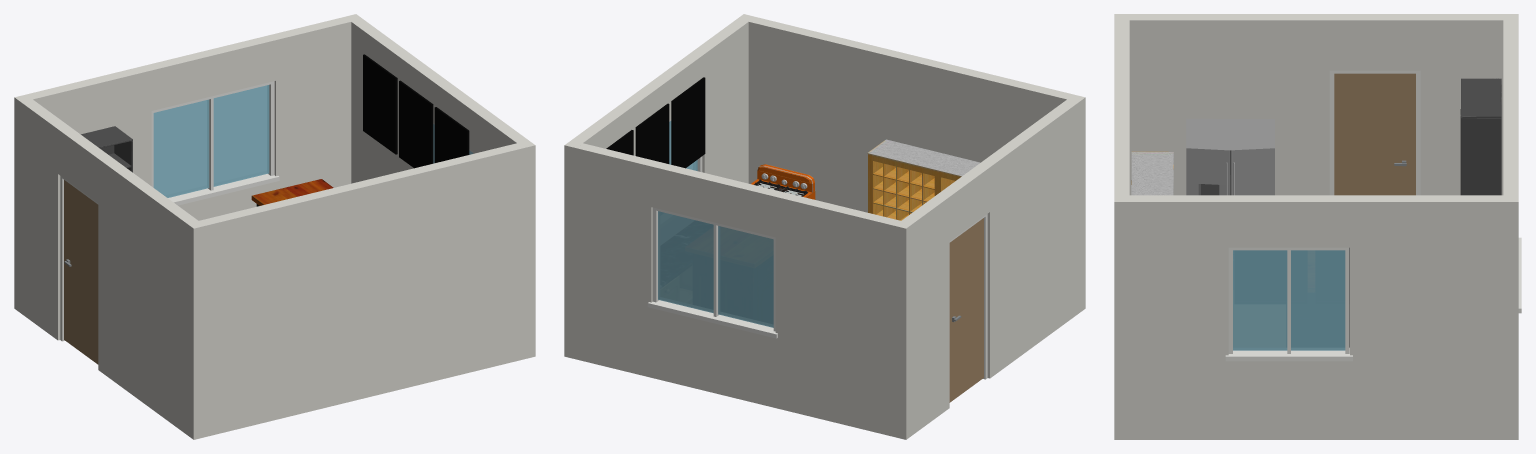
The model's file is holodeck.glb.
3 renders of one model, left to right at view 1: azimuth 30°, elevation 25°; view 2: azimuth 150°, elevation 25°; view 3: azimuth 270°, elevation 25°, orthographic. The views are drawn at different scales.
Visible parts, largest first — view 1: wall|scenesmith_091__R00|0, wall|scenesmith_091__R00|2, wall|scenesmith_091__R00|1, wall|scenesmith_091__R00|1 Window 0 | glazing, wall|scenesmith_091__R00|3, scenesmith_091__R00_10, wall|scenesmith_091__R00|2 Door 0 | wood leaf, wall|scenesmith_091__R00|1 Window 0 | jamb, scenesmith_091__R00_3, scenesmith_091__R00_7, wall|scenesmith_091__R00|2 Door 0 | jamb; view 2: wall|scenesmith_091__R00|1, wall|scenesmith_091__R00|2, wall|scenesmith_091__R00|0, wall|scenesmith_091__R00|3, wall|scenesmith_091__R00|1 Window 0 | glazing, scenesmith_091__R00_8, wall|scenesmith_091__R00|2 Door 0 | wood leaf, scenesmith_091__R00_10, wall|scenesmith_091__R00|1 Window 0 | jamb, scenesmith_091__R00_2, wall|scenesmith_091__R00|2 Door 0 | jamb; view 3: wall|scenesmith_091__R00|3, wall|scenesmith_091__R00|2, wall|scenesmith_091__R00|3 Window 0 | glazing, wall|scenesmith_091__R00|2 Door 0 | wood leaf, scenesmith_091__R00_1, wall|scenesmith_091__R00|1, scenesmith_091__R00_3, wall|scenesmith_091__R00|3 Window 0 | jamb, wall|scenesmith_091__R00|0, scenesmith_091__R00_8, wall|scenesmith_091__R00|2 Door 0 | jamb.
Part boxes in pixels (left/top/right/bottom): wall|scenesmith_091__R00|0: left=193, top=143, right=535, bottom=439; wall|scenesmith_091__R00|2: left=15, top=94, right=205, bottom=439; wall|scenesmith_091__R00|1: left=14, top=17, right=351, bottom=313; wall|scenesmith_091__R00|1 Window 0 | glazing: left=153, top=85, right=269, bottom=197; wall|scenesmith_091__R00|3: left=345, top=14, right=534, bottom=183; scenesmith_091__R00_10: left=363, top=54, right=469, bottom=168; wall|scenesmith_091__R00|2 Door 0 | wood leaf: left=64, top=180, right=98, bottom=364; wall|scenesmith_091__R00|1 Window 0 | jamb: left=151, top=81, right=279, bottom=205; scenesmith_091__R00_3: left=81, top=126, right=132, bottom=172; scenesmith_091__R00_7: left=251, top=179, right=333, bottom=206; wall|scenesmith_091__R00|2 Door 0 | jamb: left=60, top=176, right=98, bottom=341; wall|scenesmith_091__R00|1: left=576, top=143, right=912, bottom=439; wall|scenesmith_091__R00|2: left=894, top=94, right=1085, bottom=439; wall|scenesmith_091__R00|0: left=748, top=17, right=1073, bottom=212; wall|scenesmith_091__R00|3: left=564, top=14, right=754, bottom=359; wall|scenesmith_091__R00|1 Window 0 | glazing: left=658, top=211, right=773, bottom=327; scenesmith_091__R00_8: left=867, top=139, right=980, bottom=220; wall|scenesmith_091__R00|2 Door 0 | wood leaf: left=949, top=218, right=983, bottom=402; scenesmith_091__R00_10: left=606, top=77, right=705, bottom=168; wall|scenesmith_091__R00|1 Window 0 | jamb: left=647, top=207, right=777, bottom=338; scenesmith_091__R00_2: left=751, top=164, right=815, bottom=199; wall|scenesmith_091__R00|2 Door 0 | jamb: left=949, top=214, right=987, bottom=379; wall|scenesmith_091__R00|3: left=1114, top=195, right=1518, bottom=439; wall|scenesmith_091__R00|2: left=1114, top=14, right=1518, bottom=195; wall|scenesmith_091__R00|3 Window 0 | glazing: left=1233, top=250, right=1345, bottom=350; wall|scenesmith_091__R00|2 Door 0 | wood leaf: left=1334, top=73, right=1415, bottom=195; scenesmith_091__R00_1: left=1186, top=118, right=1274, bottom=195; wall|scenesmith_091__R00|1: left=1503, top=20, right=1518, bottom=439; scenesmith_091__R00_3: left=1460, top=78, right=1501, bottom=195; wall|scenesmith_091__R00|3 Window 0 | jamb: left=1225, top=247, right=1352, bottom=361; wall|scenesmith_091__R00|0: left=1114, top=20, right=1129, bottom=195; scenesmith_091__R00_8: left=1131, top=151, right=1173, bottom=195; wall|scenesmith_091__R00|2 Door 0 | jamb: left=1329, top=70, right=1420, bottom=195.
Bounding box in the file's own units: 4.43 × 2.61 × 4.03.
15 materials, 8 textured.
